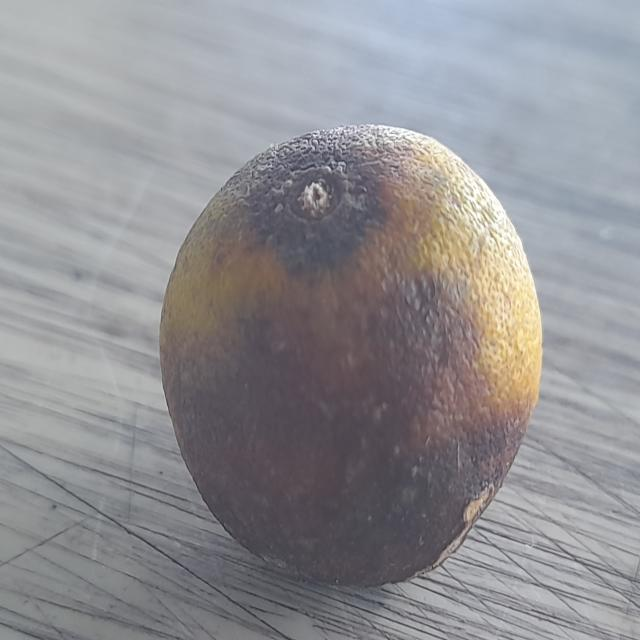black spot: (123, 99, 570, 629)
